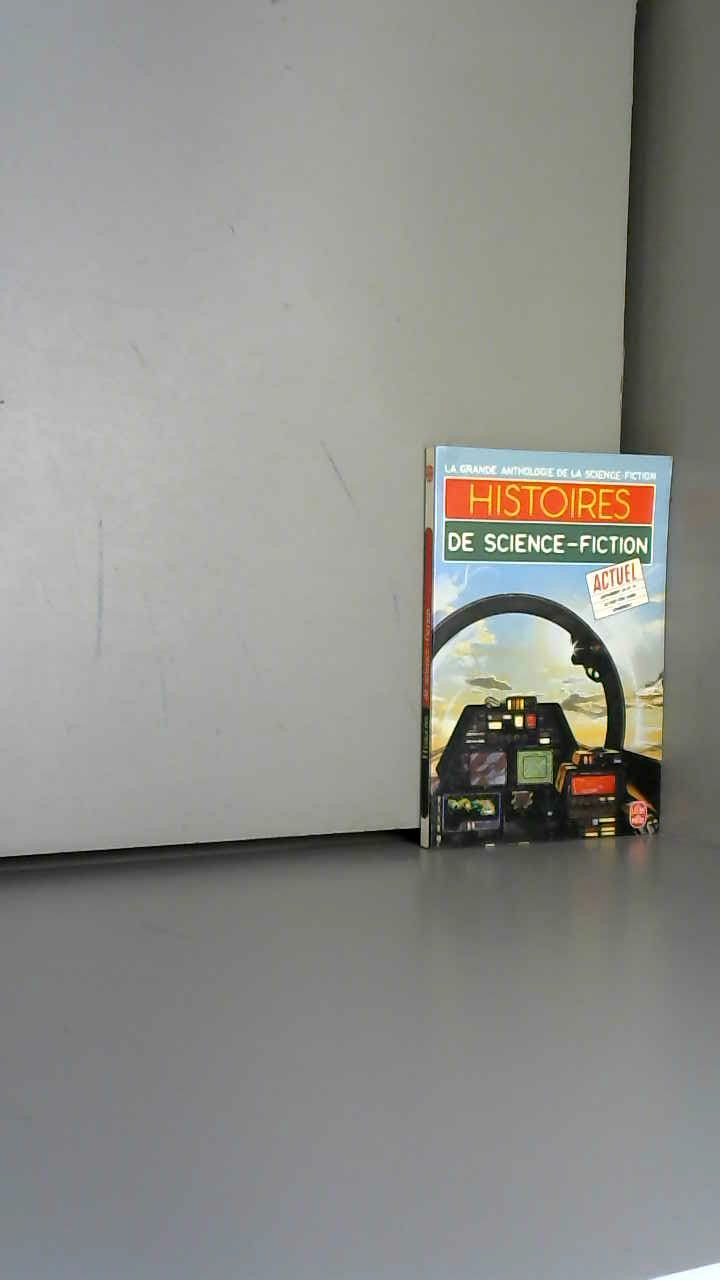book: (390, 480, 716, 874)
